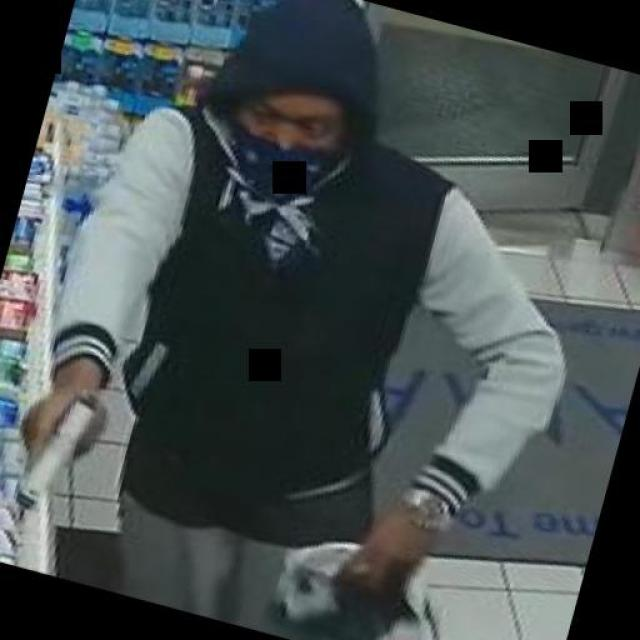gun: (0, 374, 114, 528)
